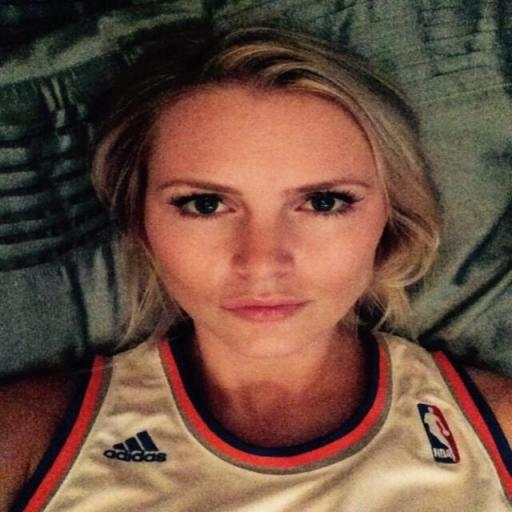Adidas: (100, 427, 170, 466)
